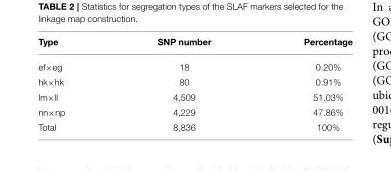table: (37, 37, 351, 131)
table column: (110, 37, 256, 131), (256, 37, 351, 131), (37, 37, 110, 131)
table column header: (37, 37, 351, 54)
table row: (37, 54, 351, 74), (37, 37, 351, 54), (37, 74, 351, 89), (37, 89, 351, 104), (37, 104, 351, 119), (37, 119, 351, 131)
